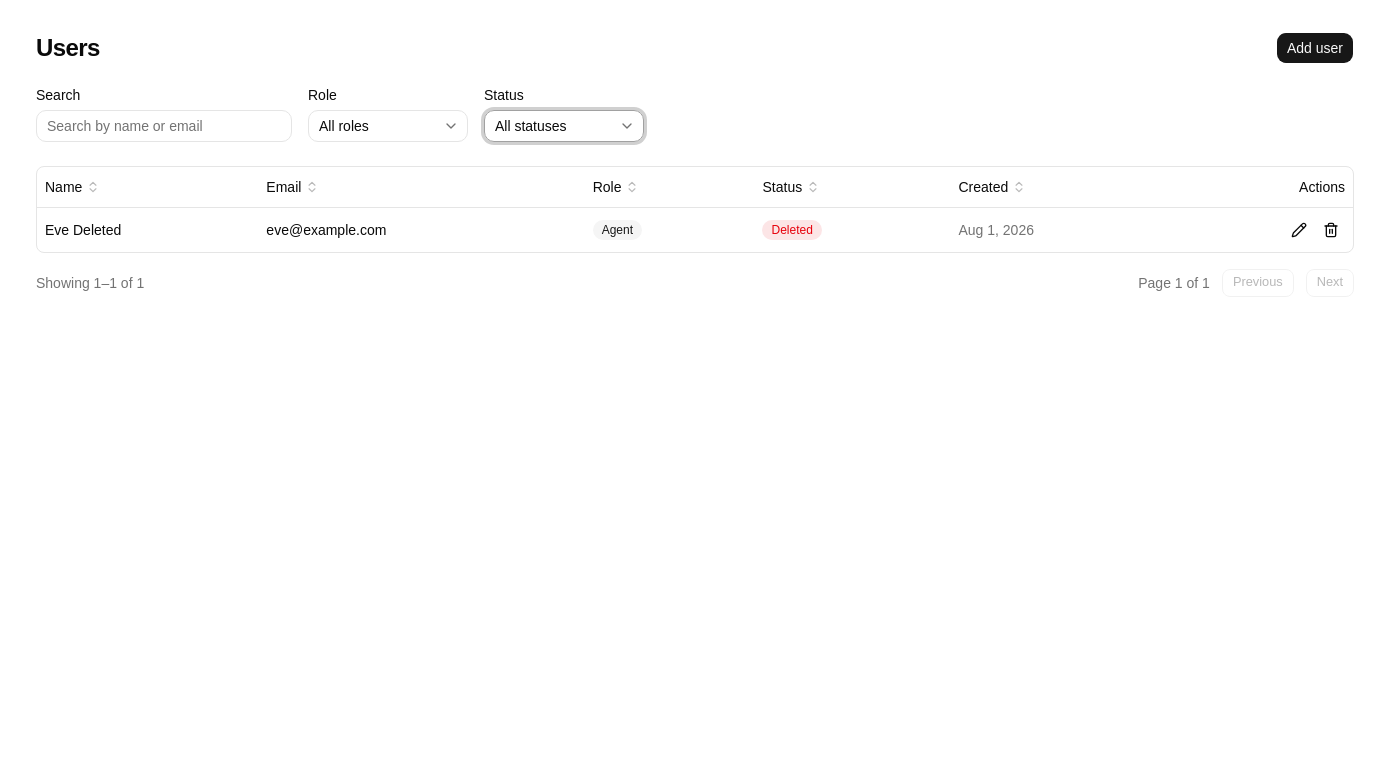
Scenario: UsersPage › filters for deleted users through the select
Press Arrowdown
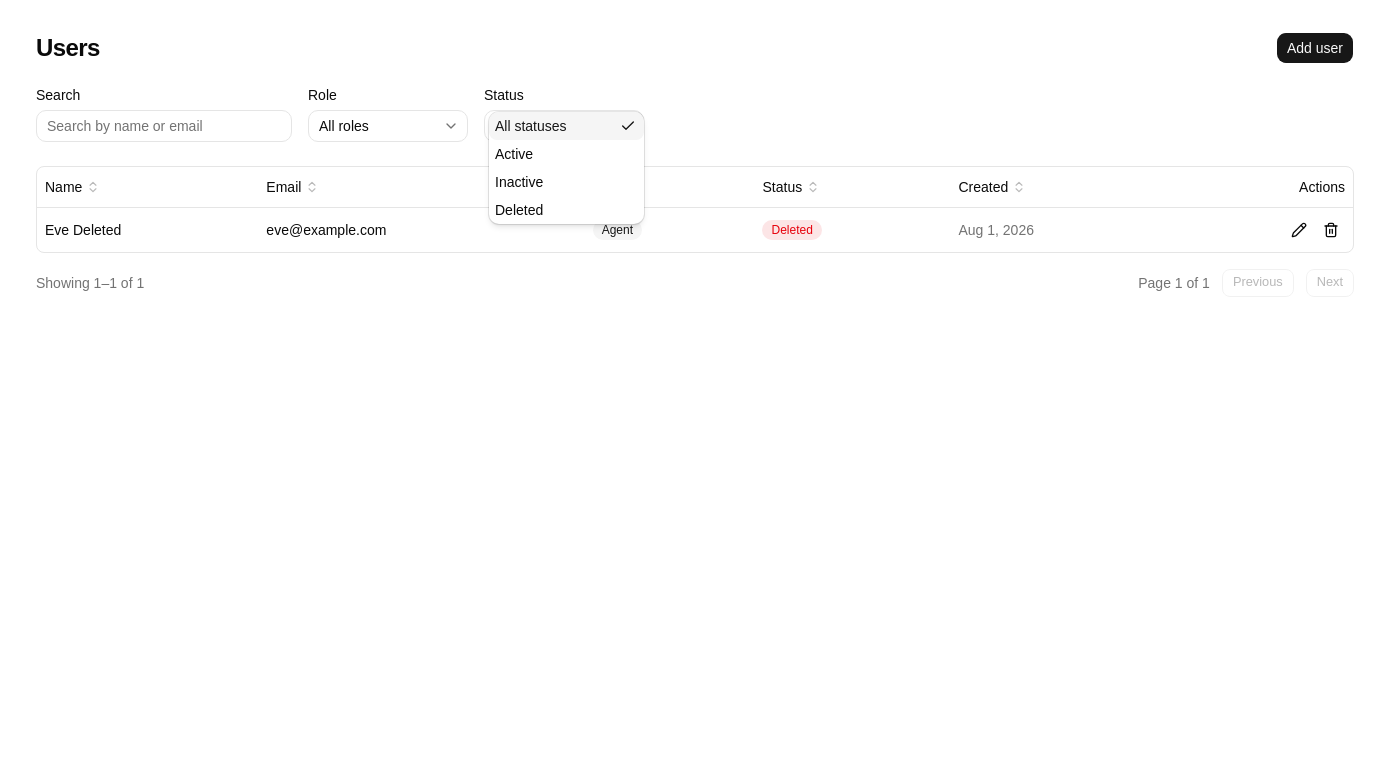
Click the option "Deleted" at coordinates (519, 210), box [495,202,543,218]
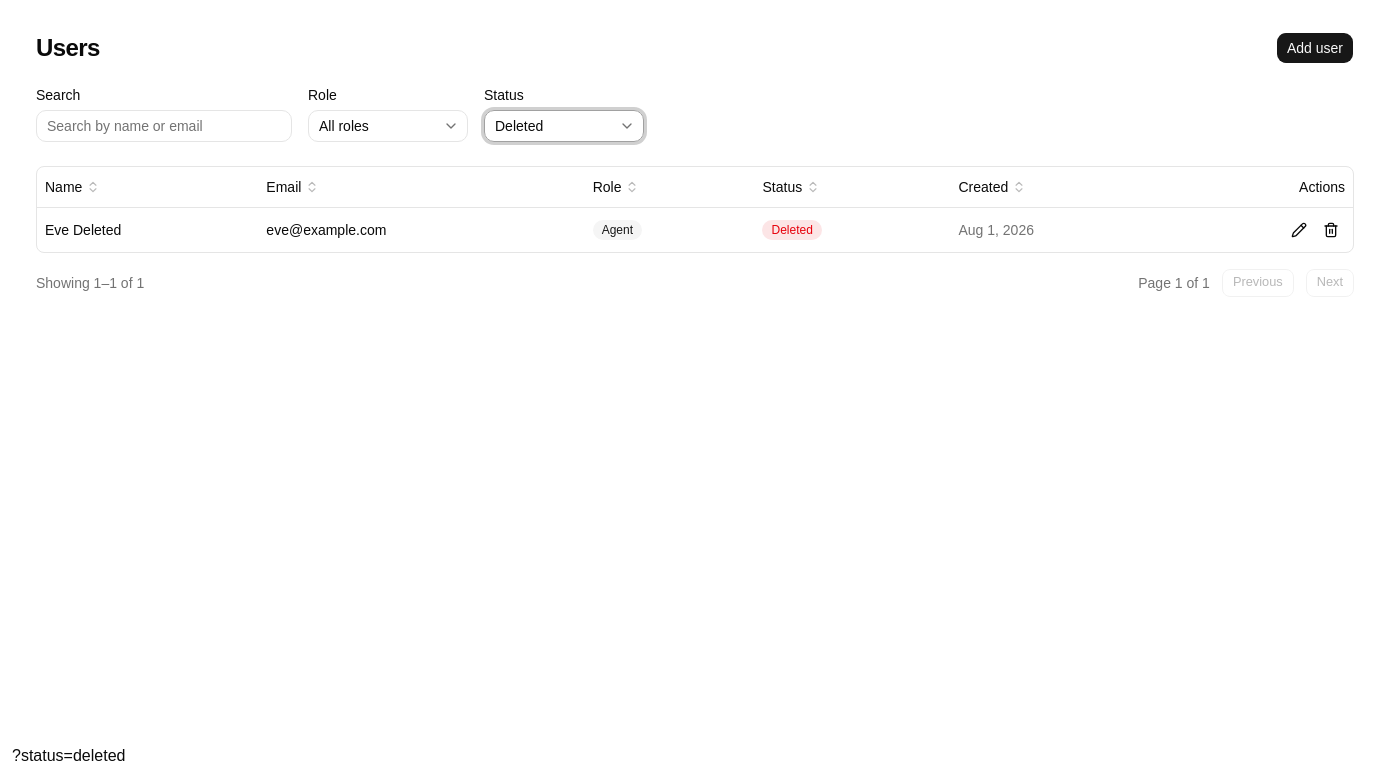
Expected: the text "Eve Deleted" is shown, [37,207,258,252]
Result: the text with test id "location-search" reads "?status=deleted" at [12,747,125,764]
